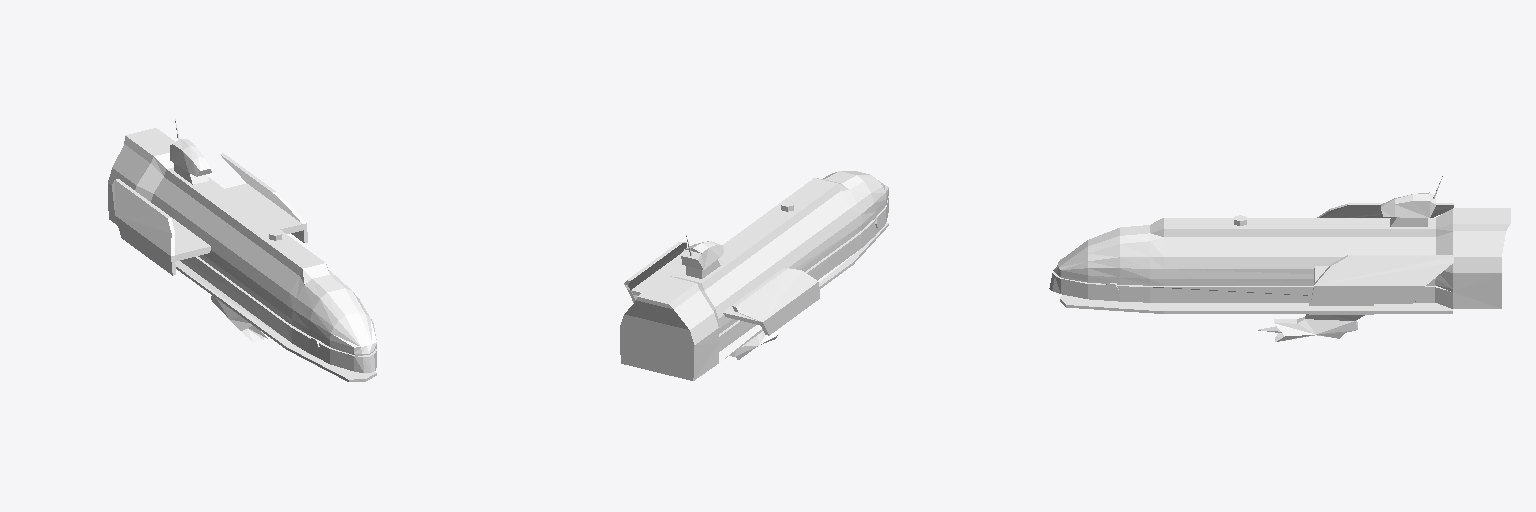
Rendered from Cruiser.obj.
The picture shows the model from 3 angles: view 1: azimuth 30°, elevation 25°; view 2: azimuth 150°, elevation 25°; view 3: azimuth 270°, elevation 25°; orthographic projection.
Visible parts, largest first — view 1: mdl_R-l-0-g-0; view 2: mdl_R-l-0-g-0; view 3: mdl_R-l-0-g-0.
Boxes of the visible parts, <box> form: mdl_R-l-0-g-0: <box>108,114,376,381</box>; mdl_R-l-0-g-0: <box>620,171,888,380</box>; mdl_R-l-0-g-0: <box>1049,176,1510,341</box>.
Bounding box in the file's own units: 2.28 × 2.69 × 6.72.